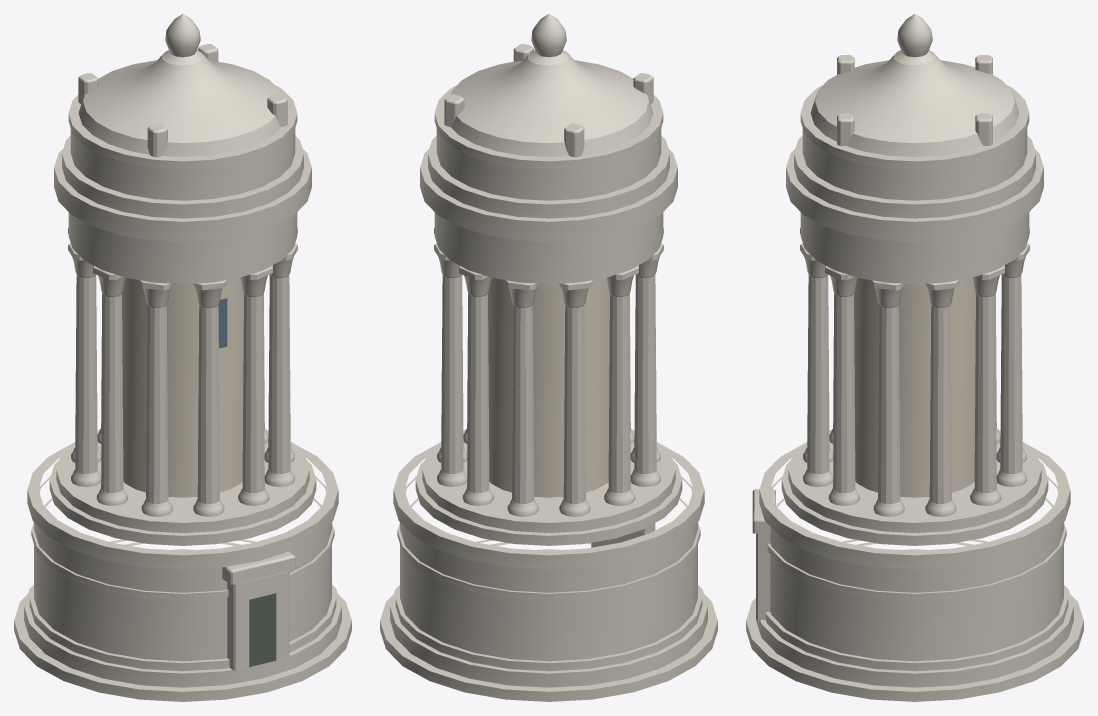
Rendered from nyc-soldiers-sailors-riverside.glb.
3 views of the same model, side by side, from view 1: azimuth 30°, elevation 25°; view 2: azimuth 150°, elevation 25°; view 3: azimuth 270°, elevation 25° (orthographic).
Parts seen in each view (by area): view 1: Soldiers' and Sailors' Monument; view 2: Soldiers' and Sailors' Monument; view 3: Soldiers' and Sailors' Monument.
Boxes of the visible parts, bbox=[...] form: Soldiers' and Sailors' Monument: bbox=[14, 14, 351, 701]; Soldiers' and Sailors' Monument: bbox=[380, 14, 717, 701]; Soldiers' and Sailors' Monument: bbox=[746, 14, 1083, 701].
Size of the model in its own units: 15.2 by 30.6 by 15.2.
